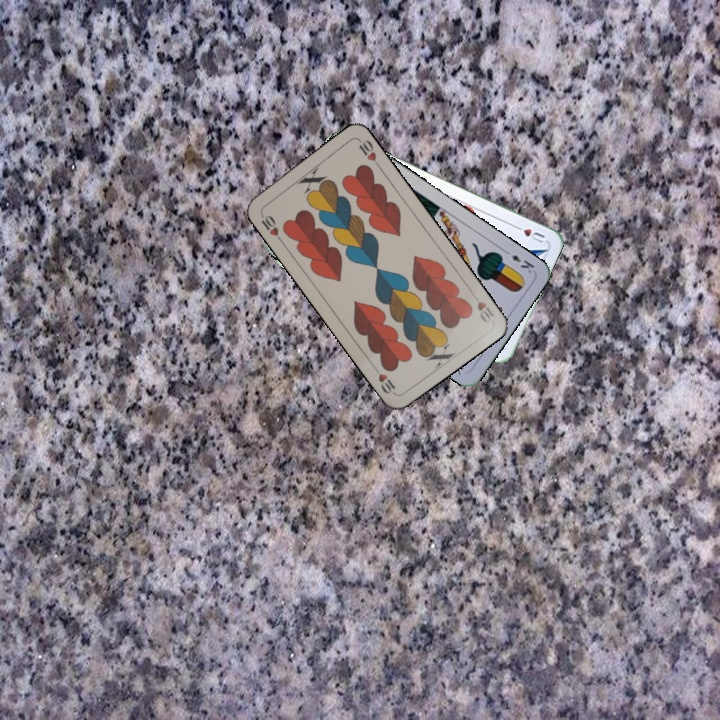EK: (500, 246, 537, 276)
H10: (467, 288, 497, 325), (256, 209, 285, 244)
HU: (510, 221, 547, 245)
